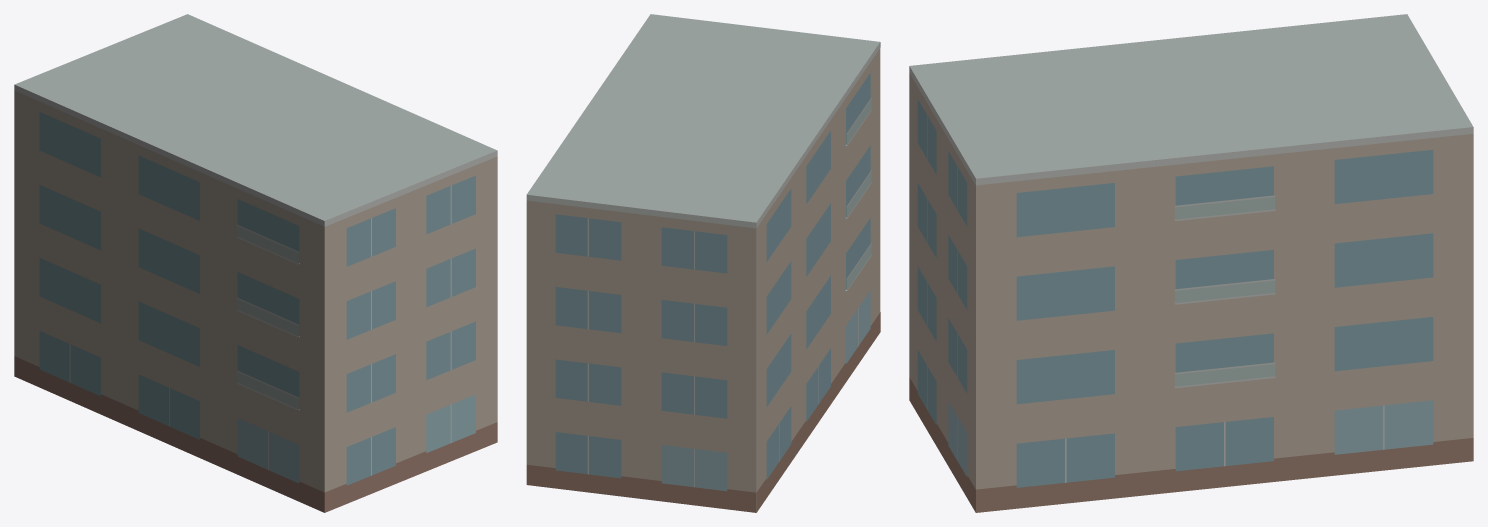
Rendered from survey-upis-32915386.glb.
3 renders of one model, left to right at view 1: azimuth 30°, elevation 25°; view 2: azimuth 150°, elevation 25°; view 3: azimuth 270°, elevation 25°, orthographic. The views are drawn at different scales.
Parts seen in each view (by area): view 1: survey-upis-32915386.tmp; view 2: survey-upis-32915386.tmp; view 3: survey-upis-32915386.tmp.
Part boxes in pixels (box(x1,y1,x2,y2)): survey-upis-32915386.tmp: box(14, 14, 497, 512); survey-upis-32915386.tmp: box(526, 14, 880, 512); survey-upis-32915386.tmp: box(909, 14, 1473, 512).
Bounding box in the file's own units: 12.91 × 12.2 × 18.68.
